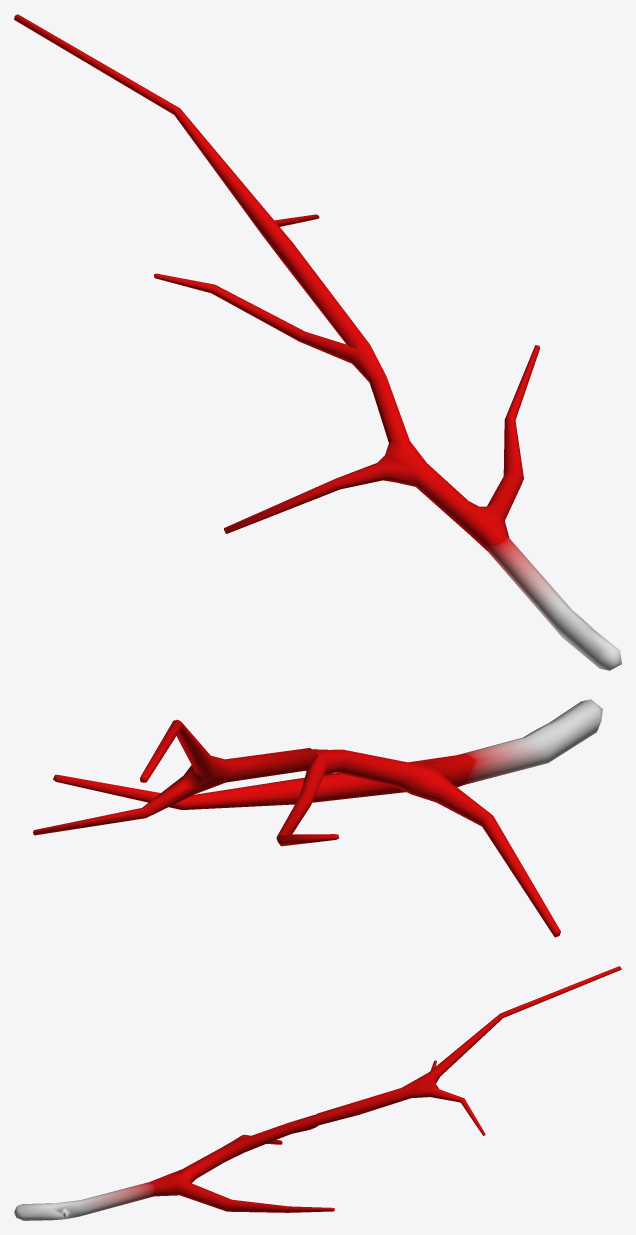
File: Branch.fbx
3 renders of one model, top to bottom at view 1: azimuth 30°, elevation 25°; view 2: azimuth 150°, elevation 25°; view 3: azimuth 270°, elevation 25°, orthographic. The views are drawn at different scales.
Parts seen in each view (by area): view 1: Branch; view 2: Branch; view 3: Branch.
Boxes of the visible parts, bbox=[...] form: Branch: bbox=[14, 14, 621, 670]; Branch: bbox=[33, 699, 602, 937]; Branch: bbox=[14, 966, 621, 1220].
Size of the model in its own units: 149 by 135 by 344.
